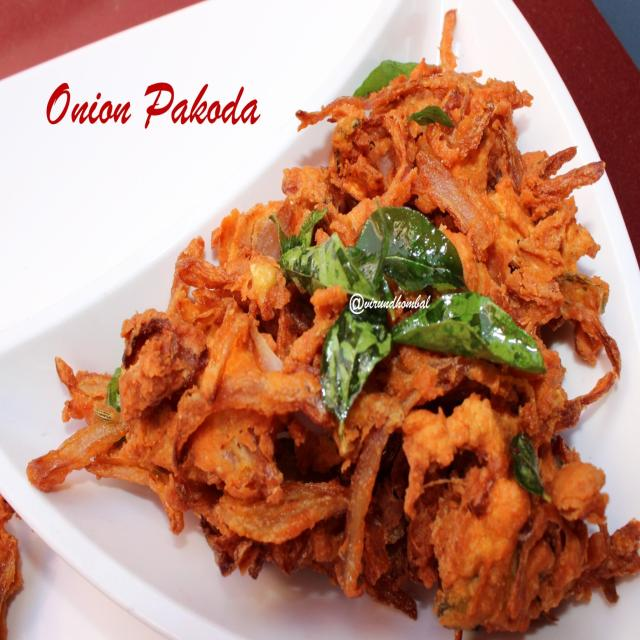BAJI: (33, 23, 640, 636)
